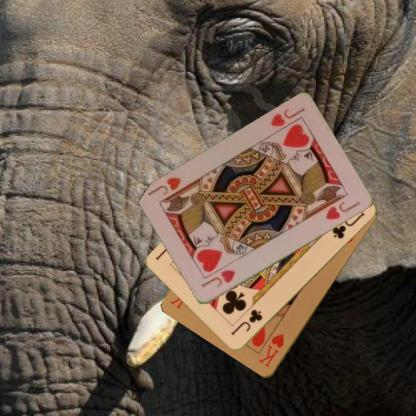Jc: (228, 307, 264, 337)
Jh: (268, 105, 306, 137), (198, 268, 237, 290)
Kh: (255, 331, 286, 369)
